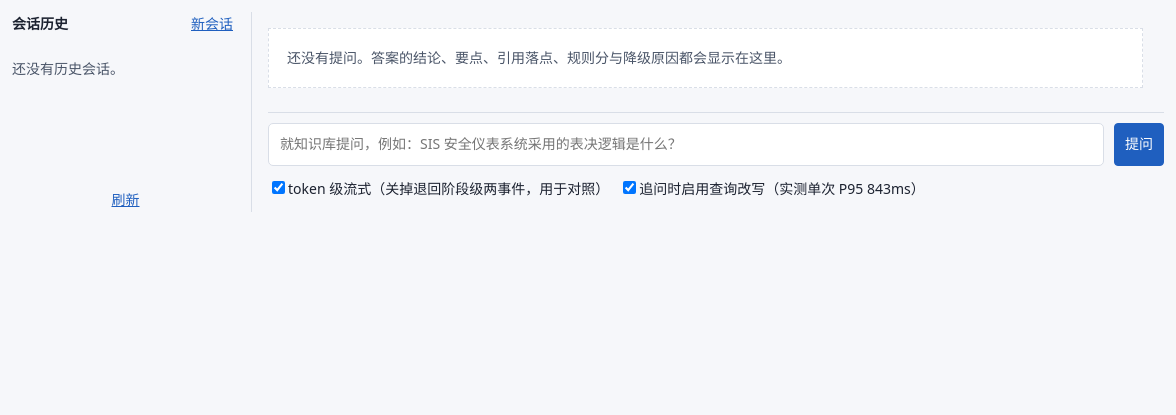
Test case: 问答页的三态渲染 › 拒答轮也要带 score_basis：0 分最容易被读成概率，缺这句说明就最危险
Step 1. Type "表决逻辑是什么？" into the search field named "问题" → (686,145), box [268, 123, 1104, 166]
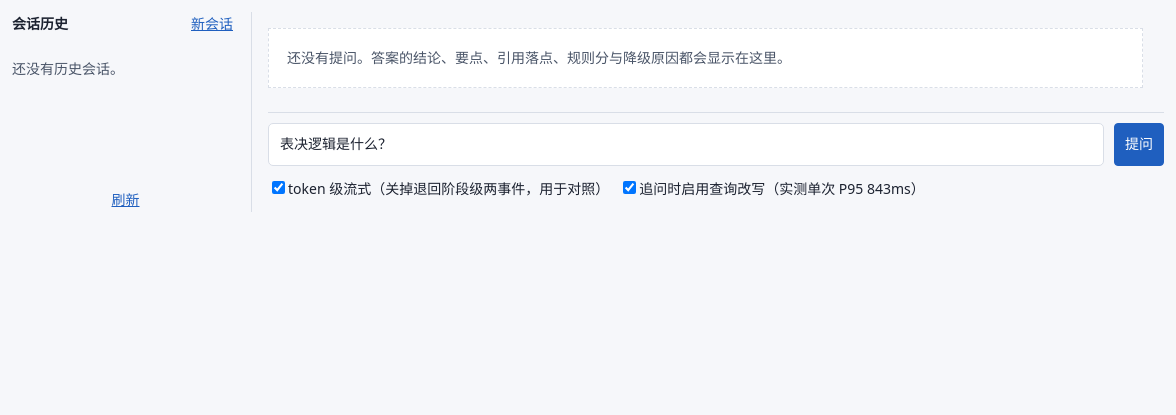
Step 2. Click the button "提问" → (1139,145), box [1114, 123, 1164, 166]
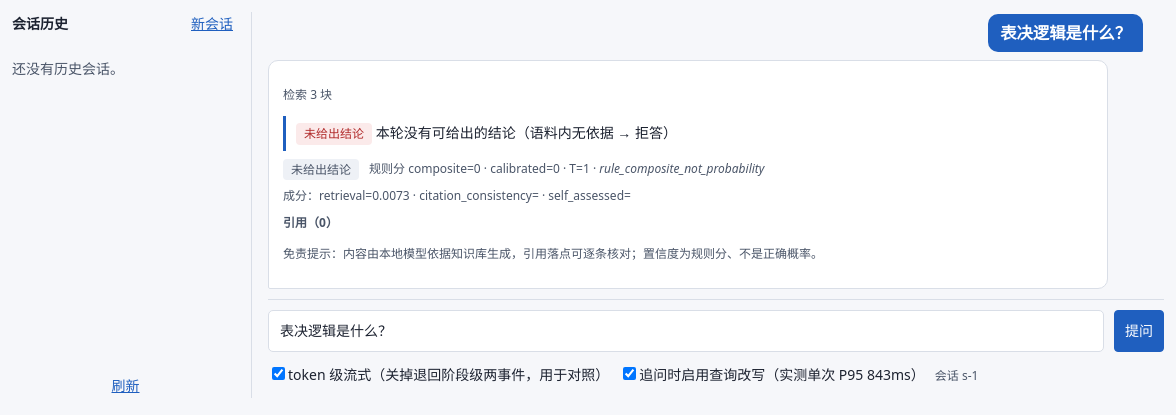
Check: the element with test id "confidence" shows "rule_composite_not_probability", box [599, 160, 764, 177]
